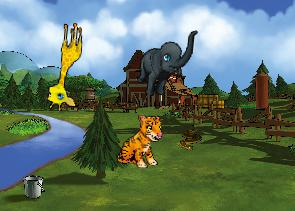elephant: (135, 25, 198, 100)
giraffe: (45, 20, 83, 112)
tiger: (117, 114, 163, 169)
